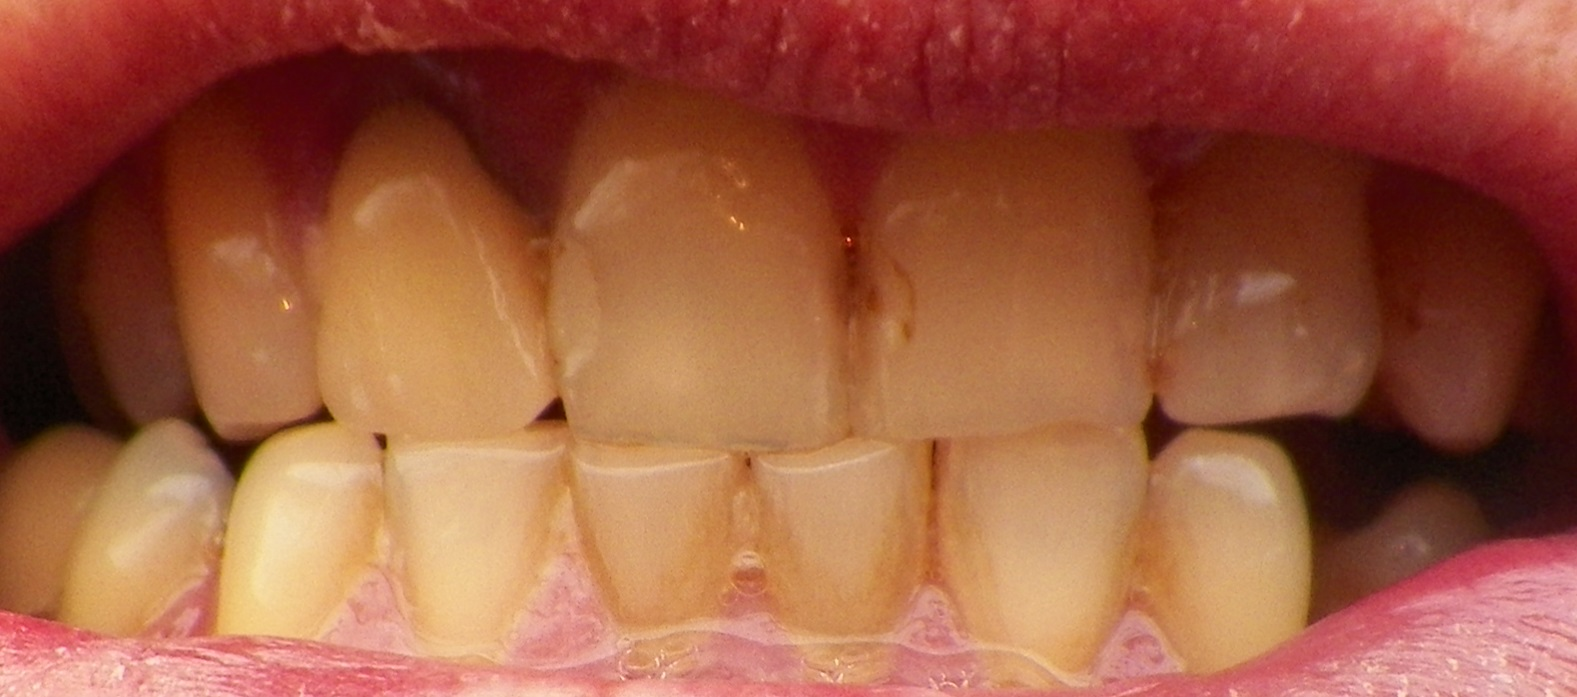boca: (17, 99, 1568, 666)
